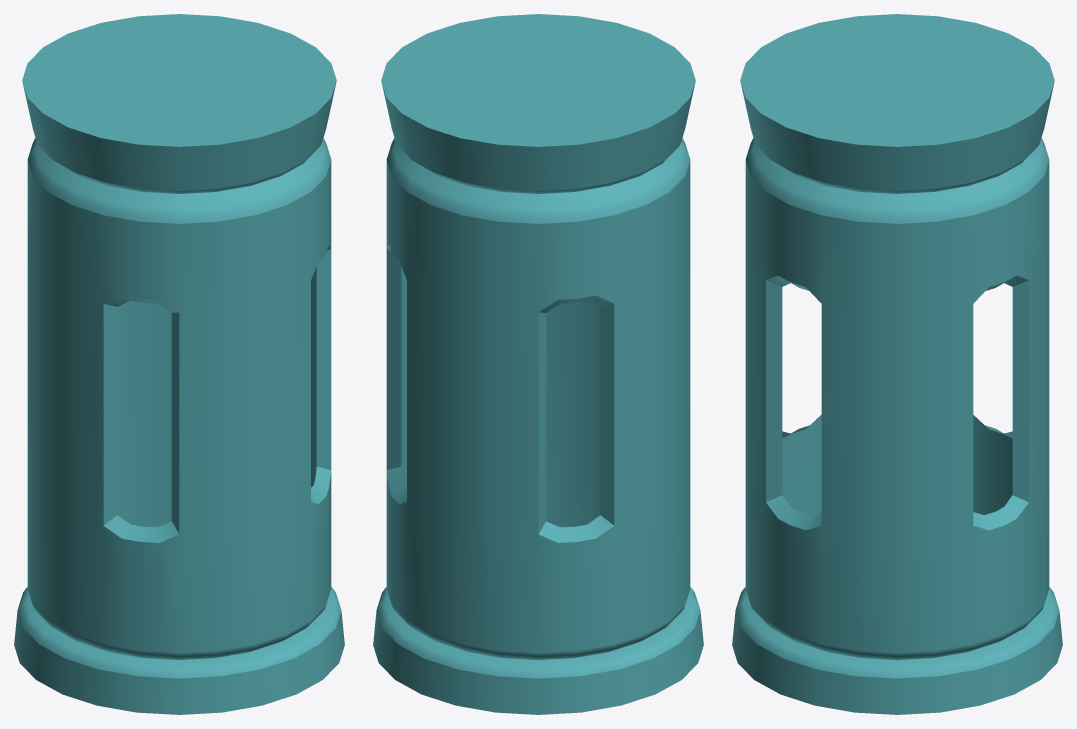
The model's file is engine_cylinder.fbx.
3 views of the same model, side by side, from view 1: azimuth 30°, elevation 25°; view 2: azimuth 150°, elevation 25°; view 3: azimuth 270°, elevation 25° (orthographic).
Parts seen in each view (by area): view 1: engine; view 2: engine; view 3: engine.
Part boxes in pixels (bbox=[...]): engine: bbox=[14, 14, 344, 714]; engine: bbox=[373, 14, 703, 714]; engine: bbox=[732, 14, 1062, 714].
Bounding box in the file's own units: 216 × 407 × 216.
